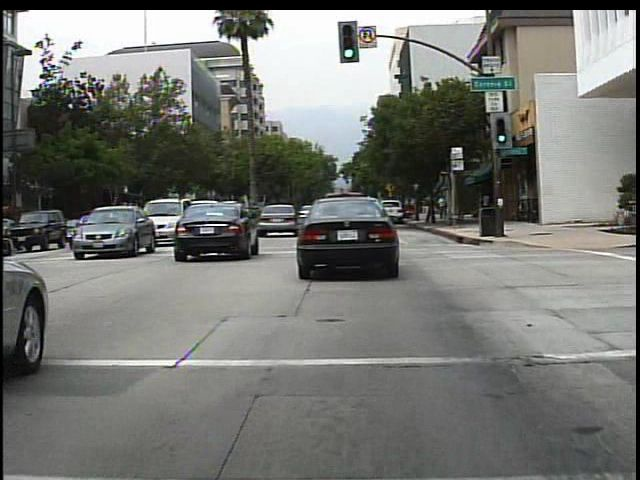person: (432, 192, 452, 225)
